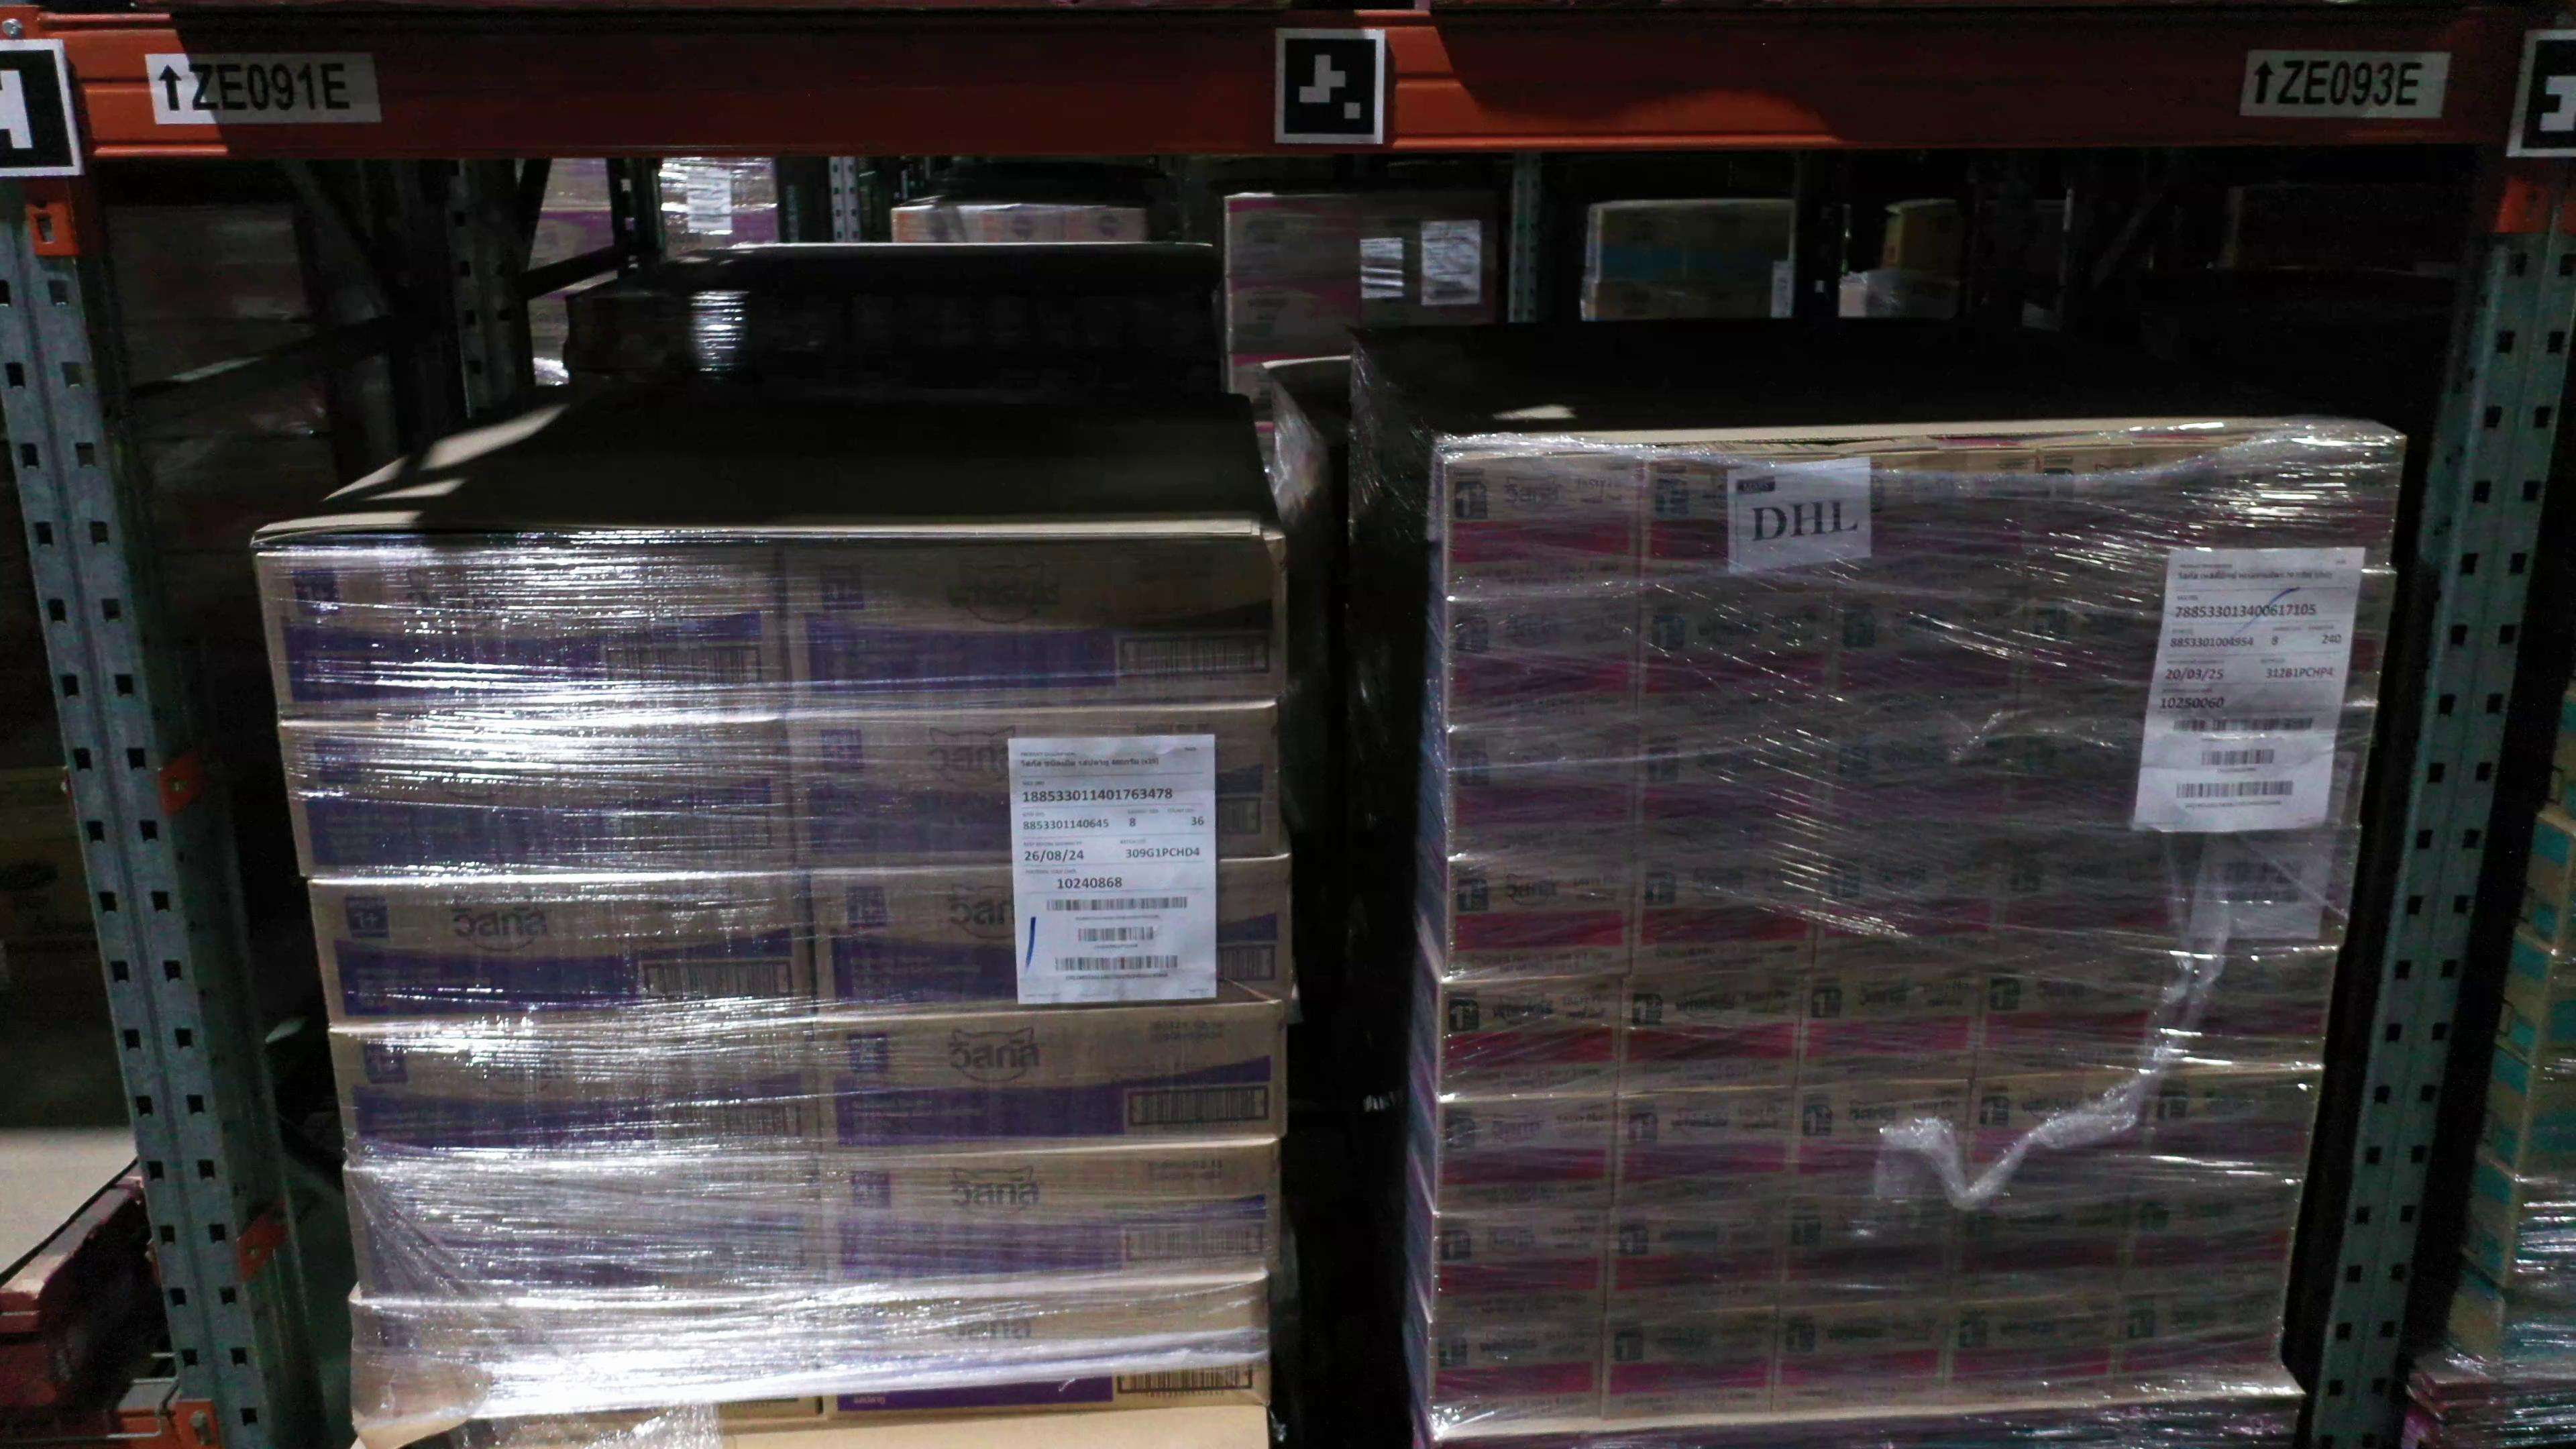-: (257, 533, 786, 720), (278, 709, 803, 883), (780, 534, 1283, 715), (789, 701, 1279, 870), (308, 872, 823, 1033), (803, 855, 1295, 1017), (329, 1017, 824, 1171), (816, 998, 1283, 1159), (816, 1138, 1277, 1299), (345, 1155, 830, 1304), (821, 1277, 1270, 1426), (354, 1290, 821, 1430), (1442, 449, 1644, 600), (1836, 446, 2038, 596), (1638, 451, 1845, 596), (2215, 435, 2403, 591), (2031, 442, 2224, 593), (2019, 584, 2219, 724), (1444, 594, 1642, 732), (2210, 575, 2397, 720), (1635, 593, 1833, 725), (1831, 589, 2024, 725), (1992, 839, 2190, 966), (1447, 727, 1637, 860), (2008, 722, 2208, 847), (1635, 725, 1826, 856), (1822, 724, 2015, 853), (2190, 708, 2378, 840), (1445, 853, 1635, 982), (2180, 826, 2360, 959), (1629, 851, 1817, 978), (2135, 1069, 2323, 1196), (1810, 847, 2001, 970), (1438, 975, 1622, 1100), (1966, 1074, 2151, 1198), (1621, 971, 1805, 1093), (2157, 947, 2335, 1072), (1799, 968, 1985, 1088), (1612, 1088, 1796, 1208), (1976, 959, 2162, 1077), (1435, 1093, 1617, 1214), (1606, 1201, 1785, 1322), (1789, 1086, 1971, 1203), (1431, 1208, 1610, 1325), (1778, 1196, 1957, 1311), (1428, 1320, 1605, 1435), (1944, 1297, 2123, 1410), (1955, 1194, 2134, 1306), (2123, 1184, 2302, 1295), (2114, 1290, 2288, 1401), (1601, 1311, 1776, 1421), (1775, 1304, 1948, 1414), (2505, 1180, 2576, 1288), (2495, 1293, 2576, 1384), (2516, 1069, 2576, 1185), (2532, 955, 2576, 1072)
